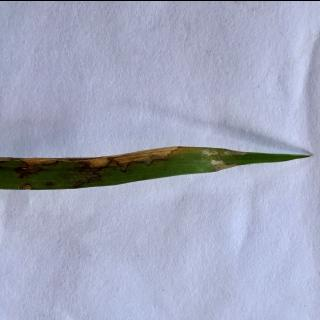Hawar-Daun: (86, 144, 179, 170), (19, 156, 69, 170), (208, 158, 235, 170), (222, 146, 246, 156), (200, 146, 218, 156), (18, 180, 33, 190), (0, 154, 11, 161)
